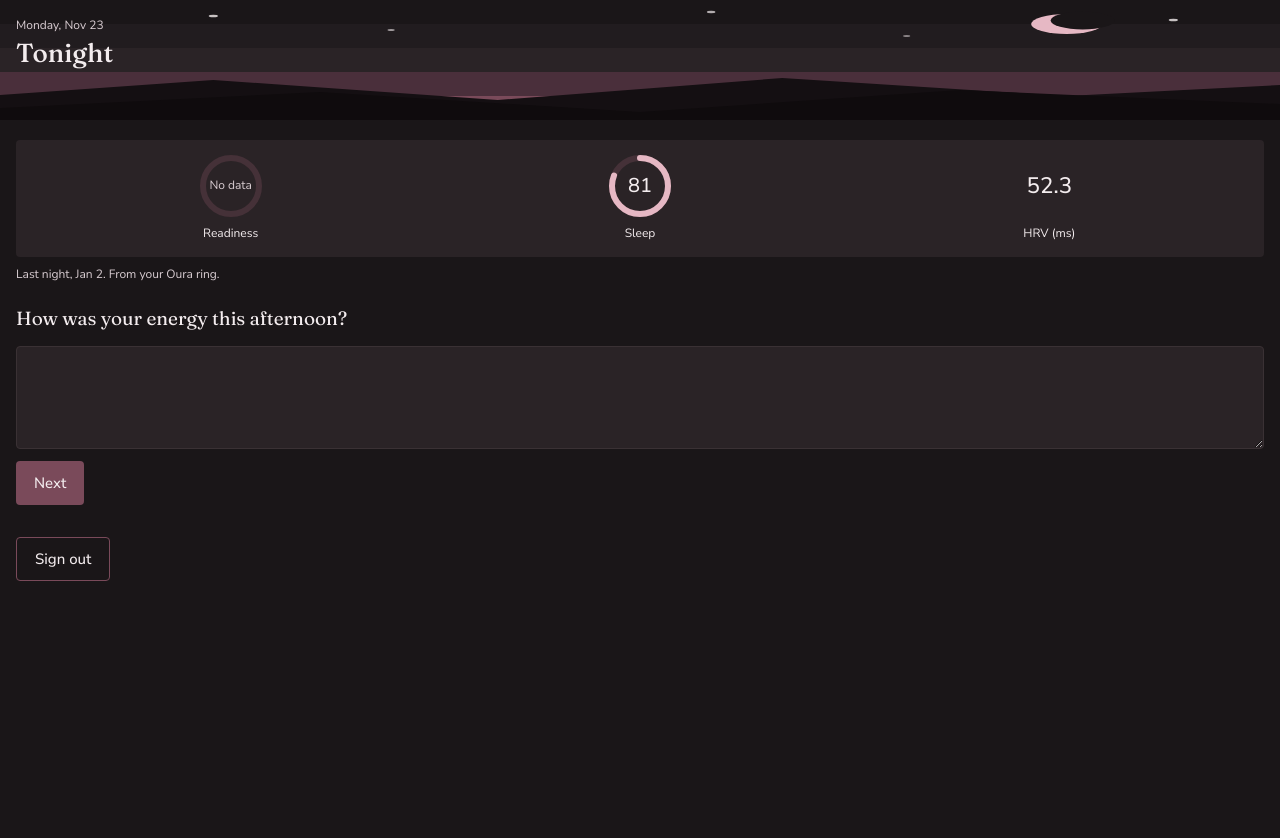
Tonight › tags › adds cleaned tags and removes a tag on tap
Later steps or results of the test are not shown.
Type "Flat until a 3pm espresso" into the text box labelled "How was your energy this afternoon?". click: {"x": 640, "y": 397}
box: [16,346,1264,449]
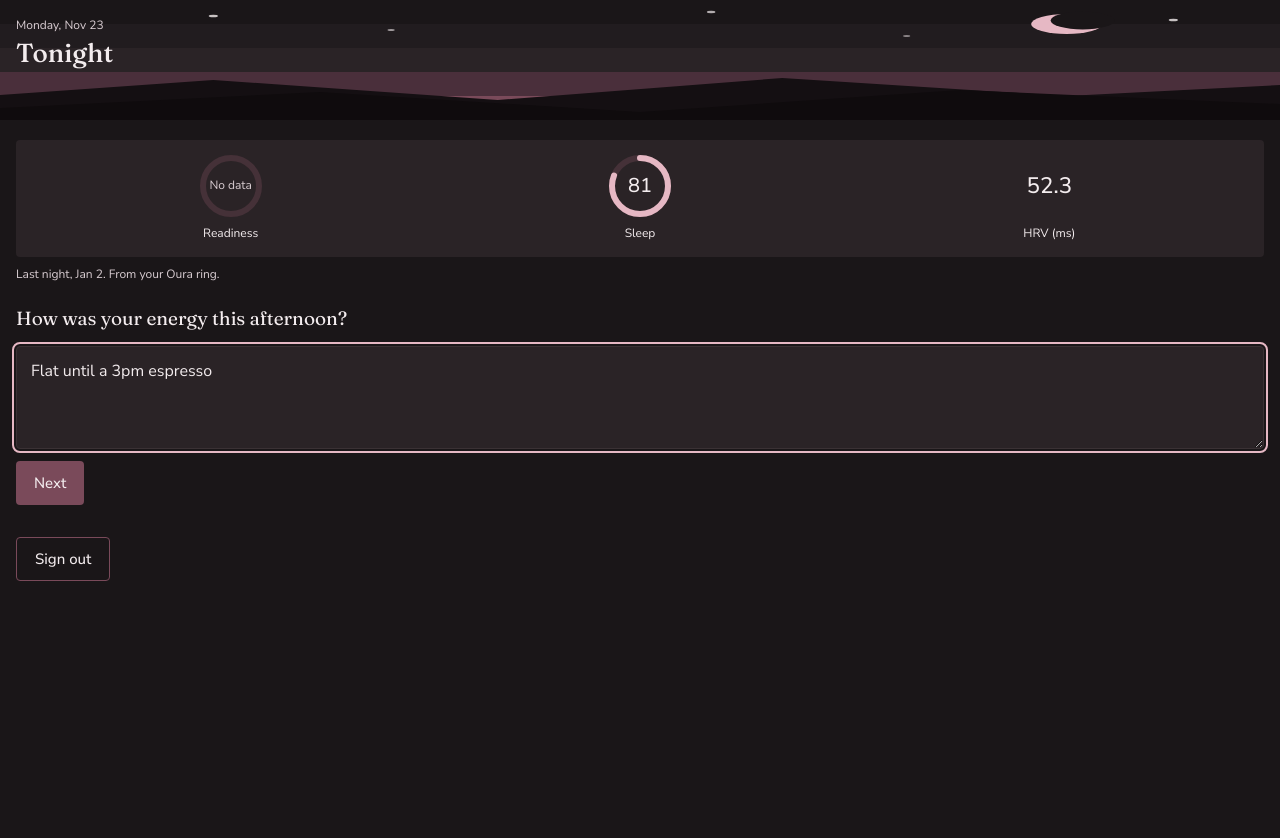
Click the button "Next". click: {"x": 50, "y": 483}
box: [16,461,84,505]
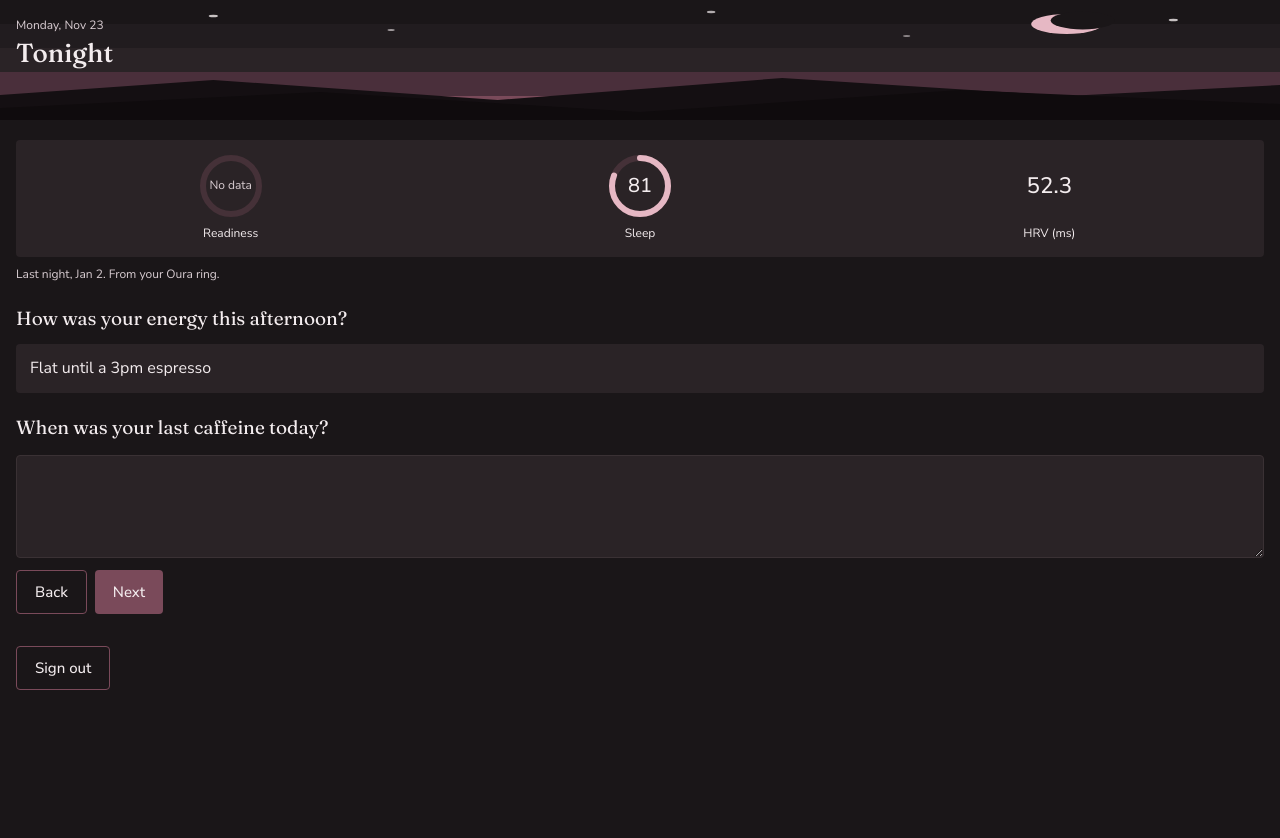
Click the button "Next". click: {"x": 129, "y": 592}
box: [95,570,163,614]
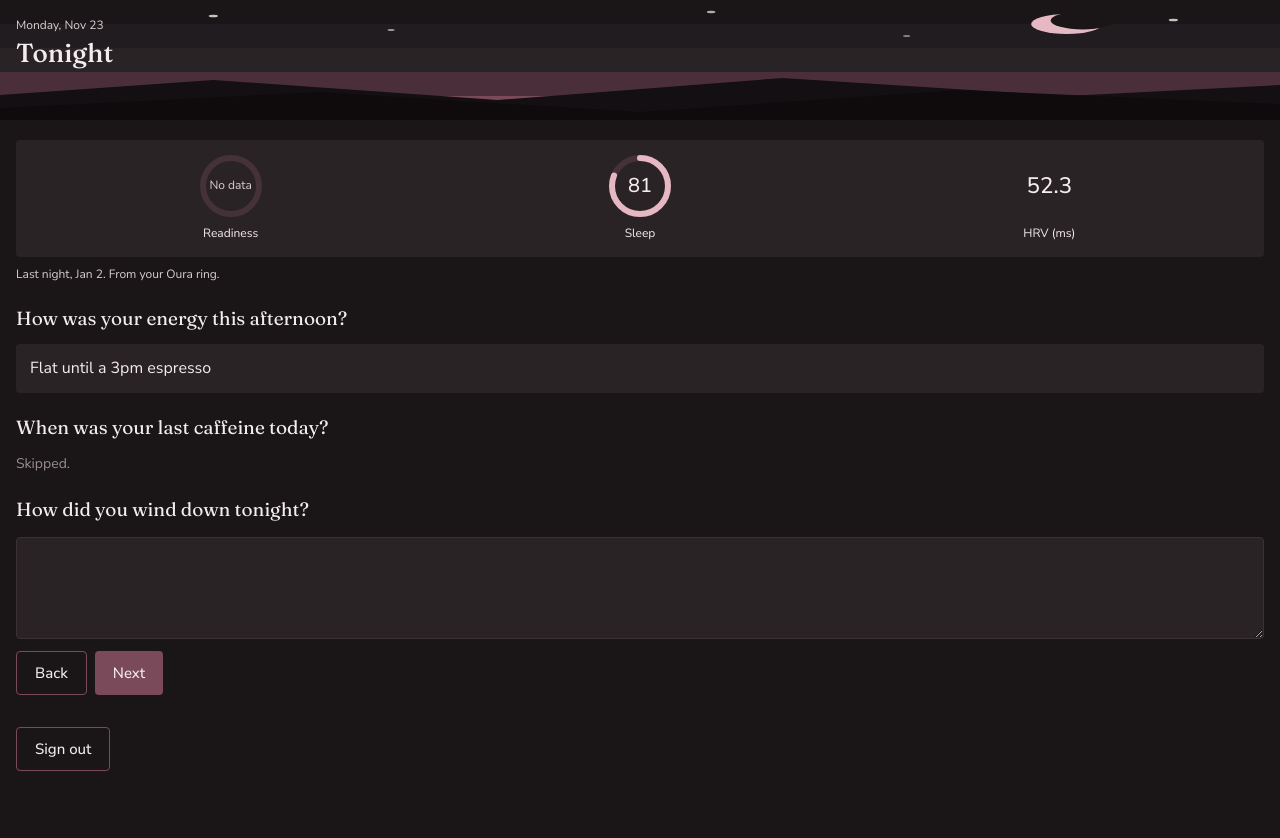
Type "Reading" into the text box labelled "How did you wind down tonight?". click: {"x": 640, "y": 588}
box: [16,537,1264,640]
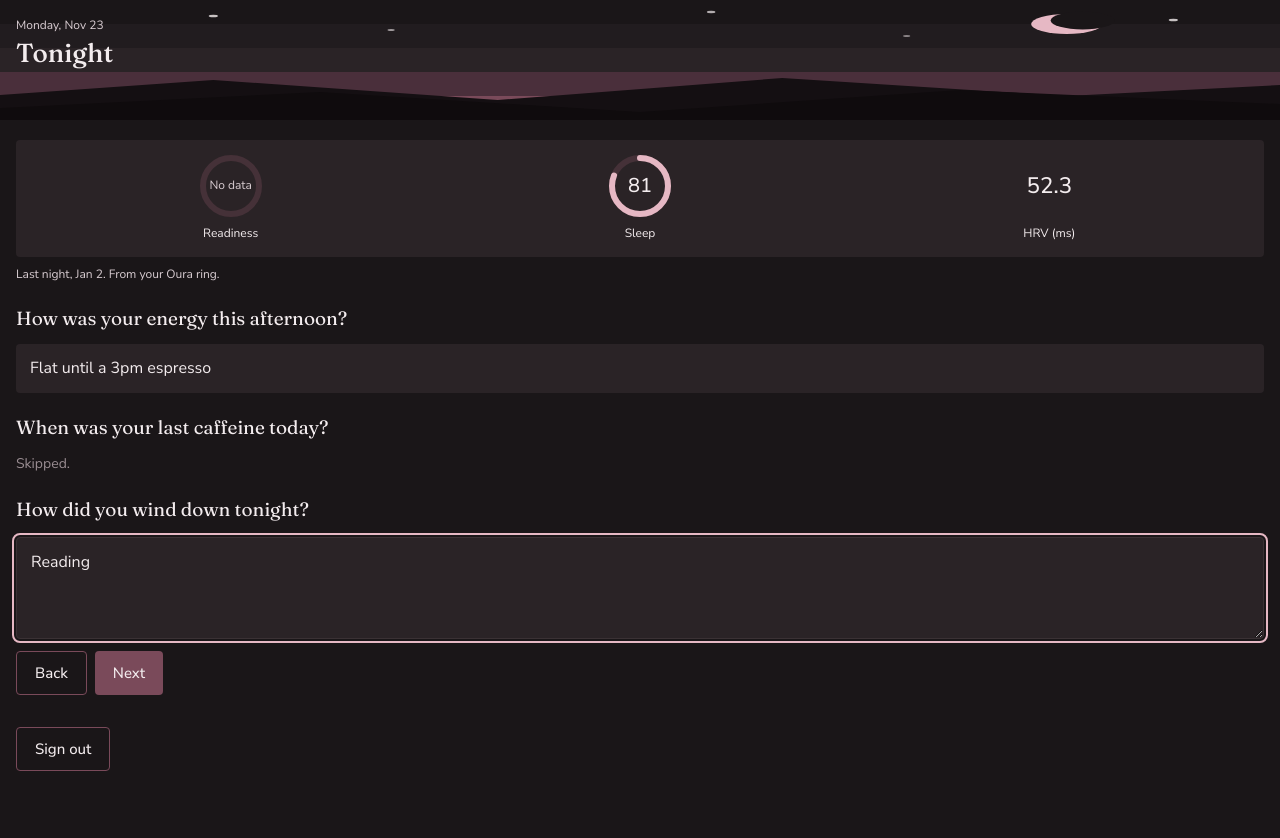
Click the button "Next". click: {"x": 129, "y": 674}
box: [95,652,163,696]
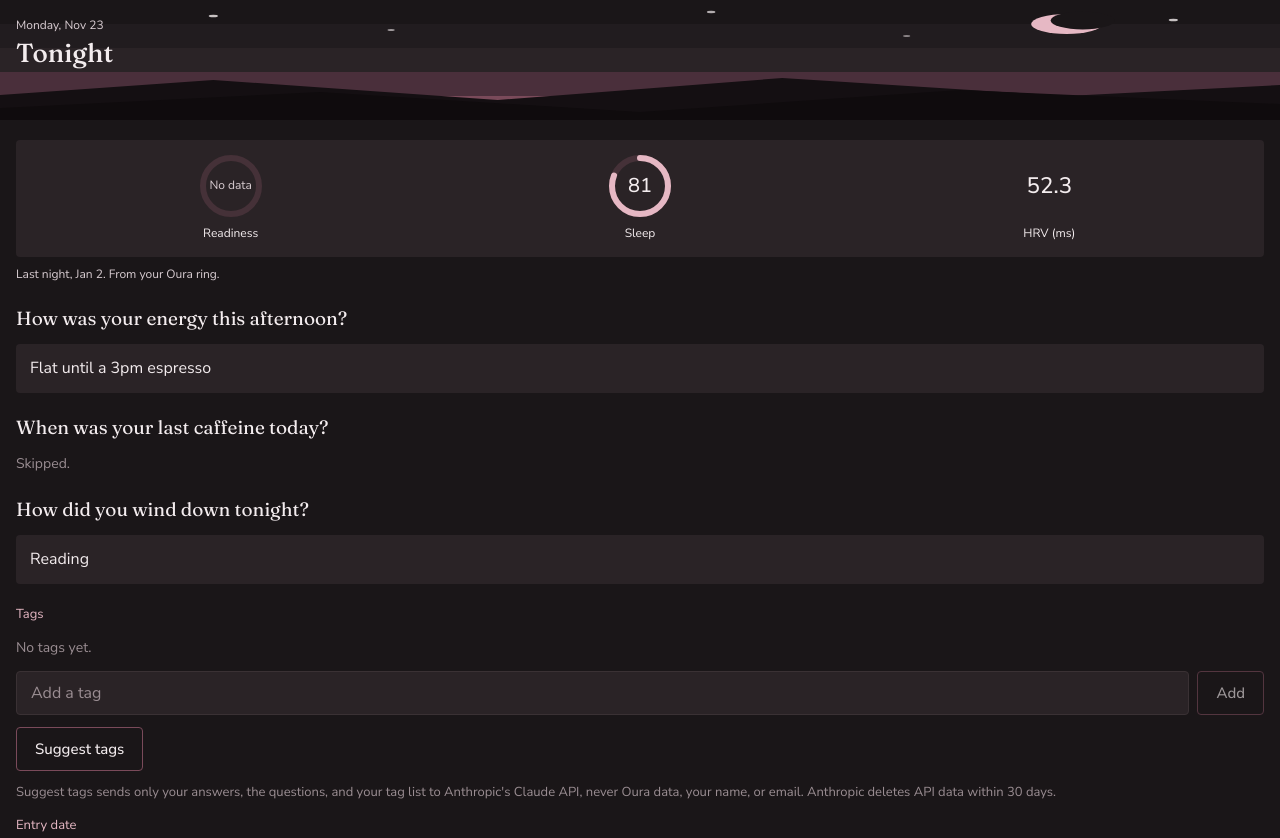
Type " Late Caffeine, stress,STRESS " into the field labelled "Add a tag". click: {"x": 603, "y": 694}
box: [16,672,1190,716]
Then press Enter
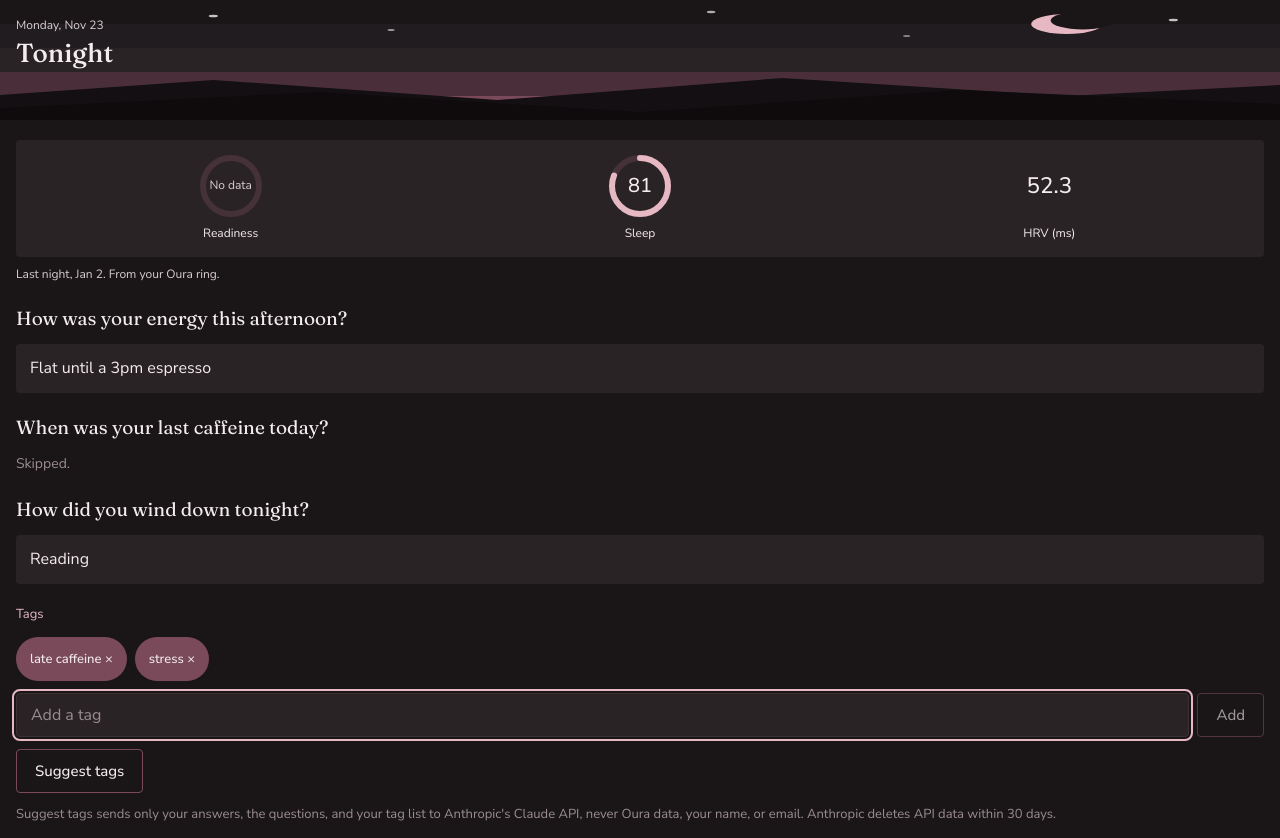
Expected: the field labelled "Add a tag" is empty, [16,693,1190,737]
